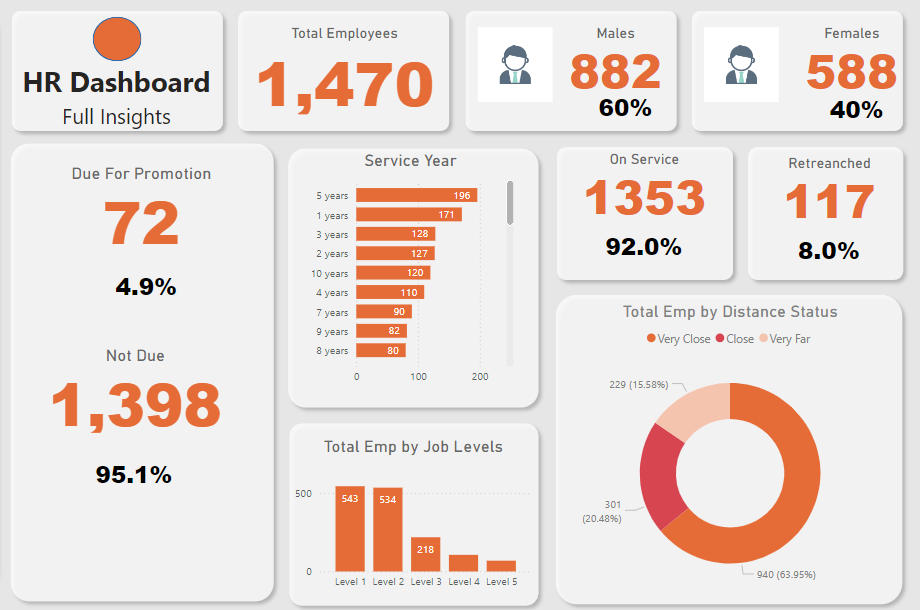

The dashboard page shown, as its layout file describes it:
{"tool":"powerbi","page":{"name":"Details","canvas":[1280,720],"ordinal":2},"visuals":[{"type":"shape","box":[10.7,0,179.8,720],"z":0},{"type":"shape","box":[190.4,17.8,261.6,156.6],"z":1000},{"type":"shape","box":[452.1,17.8,261.6,156.6],"z":2000},{"type":"shape","box":[713.7,17.8,261.6,156.6],"z":3000},{"type":"shape","box":[975.3,17.8,261.6,156.6],"z":4000},{"type":"textbox","box":[202.5,81.2,236.2,56.2],"z":5000},{"type":"textbox","box":[202.5,126.2,236.2,48.8],"z":6000},{"type":"shape","box":[292.5,33.8,56.2,51.2],"z":7000},{"type":"card","title":"Total Employees","fields":{"Values":["All Measures.Total Emp"]},"box":[469.3,41,225.6,108.6],"z":8000},{"type":"card","title":"Males","fields":{"Values":["All Measures.Male"]},"box":[833.8,42.5,125,83.8],"z":9000},{"type":"card","title":"Males","fields":{"Values":["All Measures.% male"]},"box":[845,110,125,58.8],"z":10000},{"type":"card","title":"Females","fields":{"Values":["All Measures.Female"]},"box":[1106.2,41.2,125,83.8],"z":11000},{"type":"card","title":"Males","fields":{"Values":["All Measures.% female"]},"box":[1112.5,111.2,125,58.8],"z":12000},{"type":"image","box":[729.9,41,100.1,96.5],"z":13000},{"type":"image","box":[991.7,41,100.1,96.5],"z":14000},{"type":"shape","box":[190.6,168.9,348.7,540.5],"z":15000},{"type":"columnChart","fields":{"Category":["HR Analytics Data.Department"],"Y":["All Measures.Will be retreanched","All Measures.Due for promotion"]},"box":[202.7,193,322.1,459.7],"z":16000},{"type":"shape","box":[535.7,167.7,290.8,224.4],"z":17000},{"type":"shape","box":[820.4,170.1,225.6,222],"z":18000},{"type":"shape","box":[1042.4,167.7,195.4,224.4],"z":19000},{"type":"clusteredColumnChart","fields":{"Category":["HR Analytics Data.JobSatisfaction1"],"Y":["All Measures.Total Emp"]},"box":[550.1,189.4,269,189.4],"z":20000},{"type":"pieChart","fields":{"Category":["HR Analytics Data.OverTime"],"Y":["All Measures.Total Emp"]},"box":[836.1,187,206.3,205.1],"z":21000},{"type":"tableEx","fields":{"Values":["HR Analytics Data.JobRole","All Measures.Total Emp","All Measures.Will be retreanched","All Measures.Due for promotion"]},"box":[551.3,392.1,680.4,292],"z":22000},{"type":"card","title":"High Rated","fields":{"Values":["All Measures.%High Rated"]},"box":[1047.2,193,187,73.6],"z":23000},{"type":"card","title":"Low Rated","fields":{"Values":["All Measures.%Low Rated"]},"box":[1049.6,289.5,181,71.2],"z":24000},{"type":"pageNavigator","box":[27.4,150,142.8,272.7],"z":24001}]}

Visuals, with their boxes on the page's 1280x720 design canvas (x1, y1, x2, y2). These are canvas units, not pixel positions in the 920x610 screenshot, which may show the page scaled, cropped or inside an application window:
shape: <box>11,0,190,720</box>
shape: <box>190,18,452,174</box>
shape: <box>452,18,714,174</box>
shape: <box>714,18,975,174</box>
shape: <box>975,18,1237,174</box>
textbox: <box>202,81,439,137</box>
textbox: <box>202,126,439,175</box>
shape: <box>292,34,349,85</box>
"Total Employees" card: <box>469,41,695,150</box>
"Males" card: <box>834,42,959,126</box>
"Males" card: <box>845,110,970,169</box>
"Females" card: <box>1106,41,1231,125</box>
"Males" card: <box>1112,111,1238,170</box>
image: <box>730,41,830,138</box>
image: <box>992,41,1092,138</box>
shape: <box>191,169,539,709</box>
columnChart - HR Analytics Data.Department x All Measures.Will be retreanched: <box>203,193,525,653</box>
shape: <box>536,168,826,392</box>
shape: <box>820,170,1046,392</box>
shape: <box>1042,168,1238,392</box>
clusteredColumnChart - HR Analytics Data.JobSatisfaction1 x All Measures.Total Emp: <box>550,189,819,379</box>
pieChart - HR Analytics Data.OverTime x All Measures.Total Emp: <box>836,187,1042,392</box>
tableEx - HR Analytics Data.JobRole x All Measures.Total Emp: <box>551,392,1232,684</box>
"High Rated" card: <box>1047,193,1234,267</box>
"Low Rated" card: <box>1050,290,1231,361</box>
pageNavigator: <box>27,150,170,423</box>
